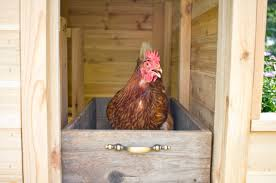chicken: (94, 37, 184, 155)
